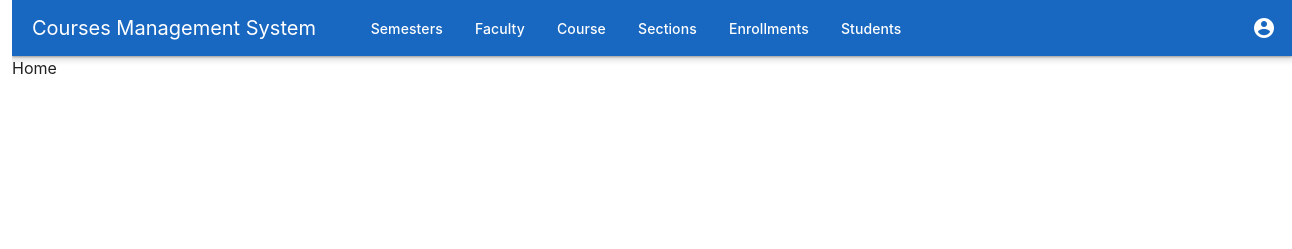
Test: Feature 5 — Section Management › US-5.1 — Select to work with Sections › Menu Selection
Click the button "Sections": click(667, 28) [622, 10, 713, 46]
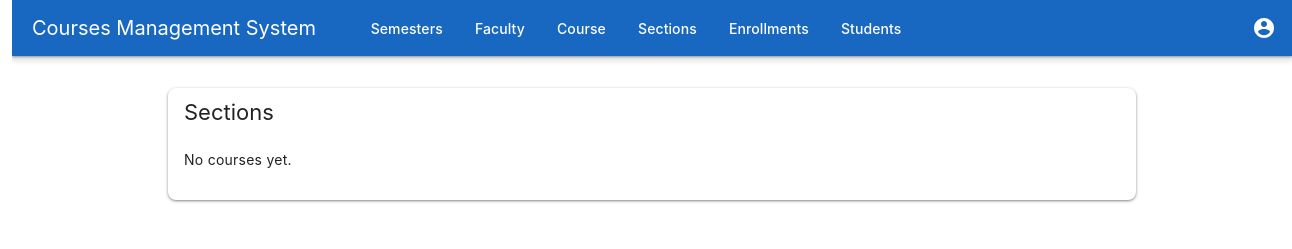
Expected: the text "Sections" is shown, [638, 20, 697, 36]
Expected: the element showing "Sections No courses yet." is shown, [152, 56, 1152, 232]
